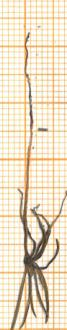flower: (1, 180, 67, 330)
root: (18, 32, 38, 132)
stem: (17, 131, 37, 250)
